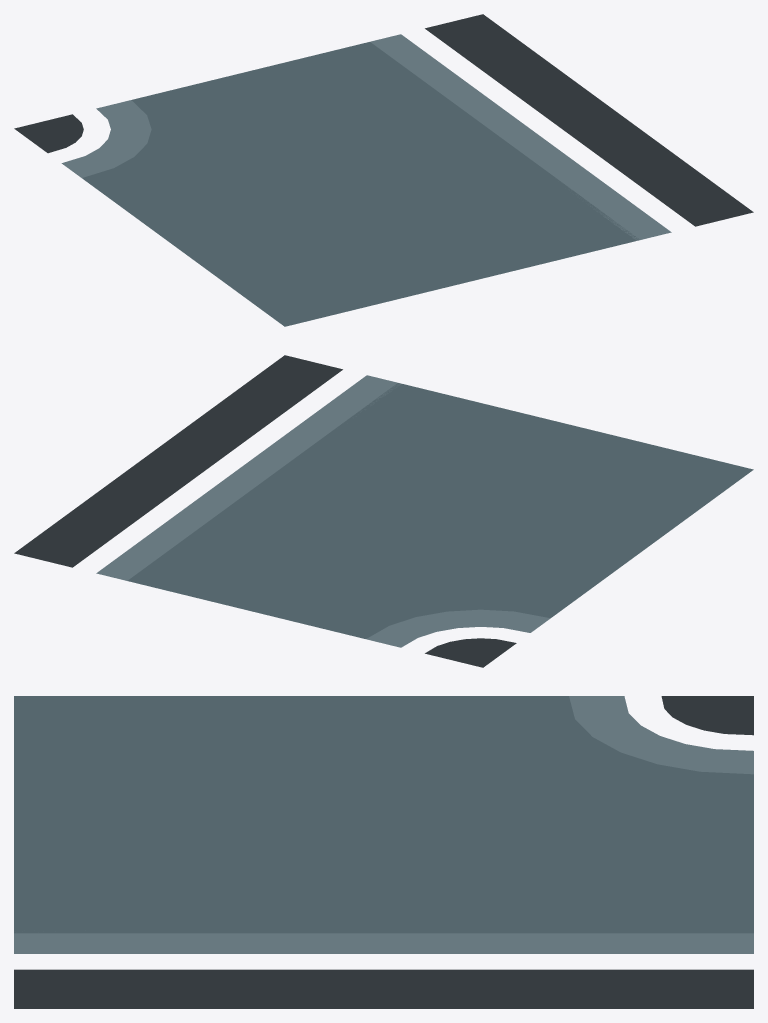
Rendered from Ceiling_type_C_011_011.glb.
The picture shows the model from 3 angles, top to bottom: view 1: azimuth 30°, elevation 25°; view 2: azimuth 150°, elevation 25°; view 3: azimuth 270°, elevation 25°; orthographic projection. The views are drawn at different scales.
Parts seen in each view (by area): view 1: Ceiling_type_C_011.011; view 2: Ceiling_type_C_011.011; view 3: Ceiling_type_C_011.011.
Part boxes in pixels (<box>): Ceiling_type_C_011.011: <box>14,14,753,326</box>; Ceiling_type_C_011.011: <box>14,355,753,667</box>; Ceiling_type_C_011.011: <box>14,696,753,1008</box>.
Bounding box in the file's own units: 4 × 0.0566 × 4.
2 materials, 2 textured.
